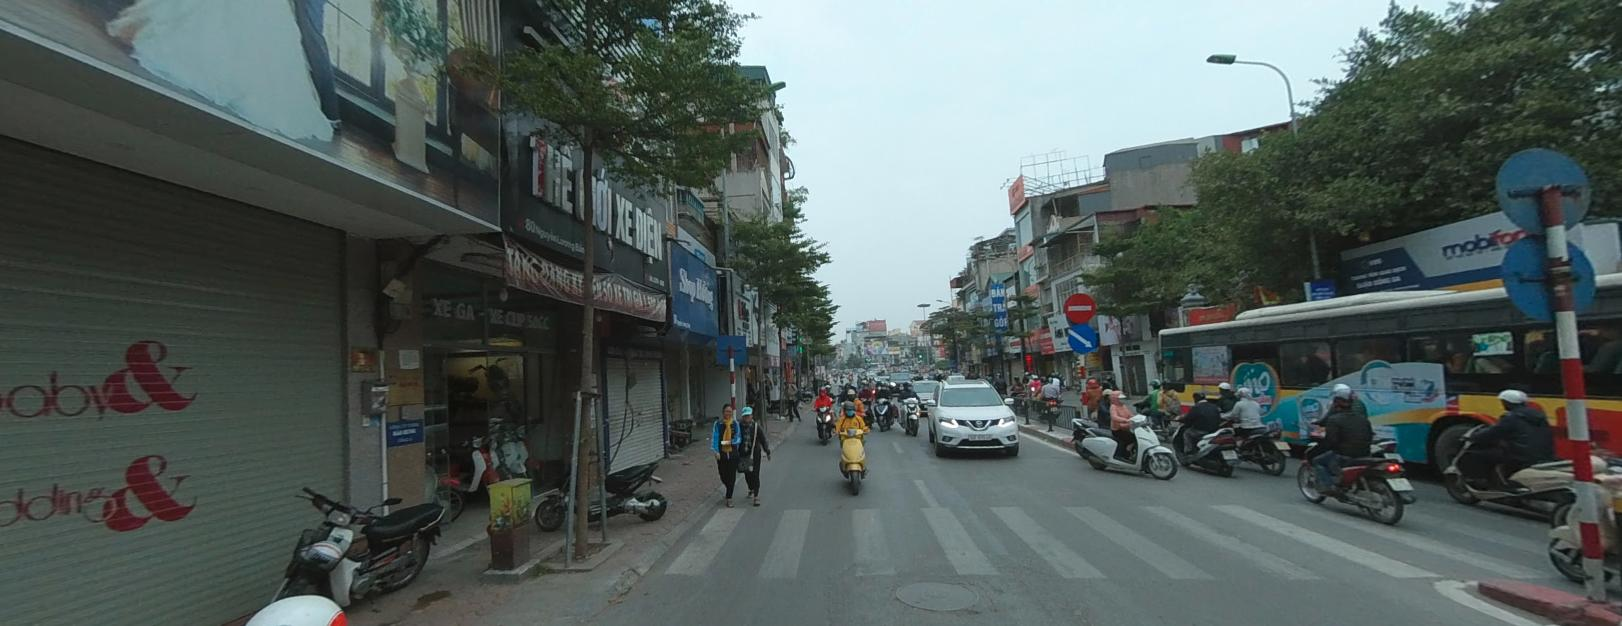Cam nguoc chieu: (1063, 290, 1098, 322)
Hieu lenh: (1065, 318, 1097, 352)
